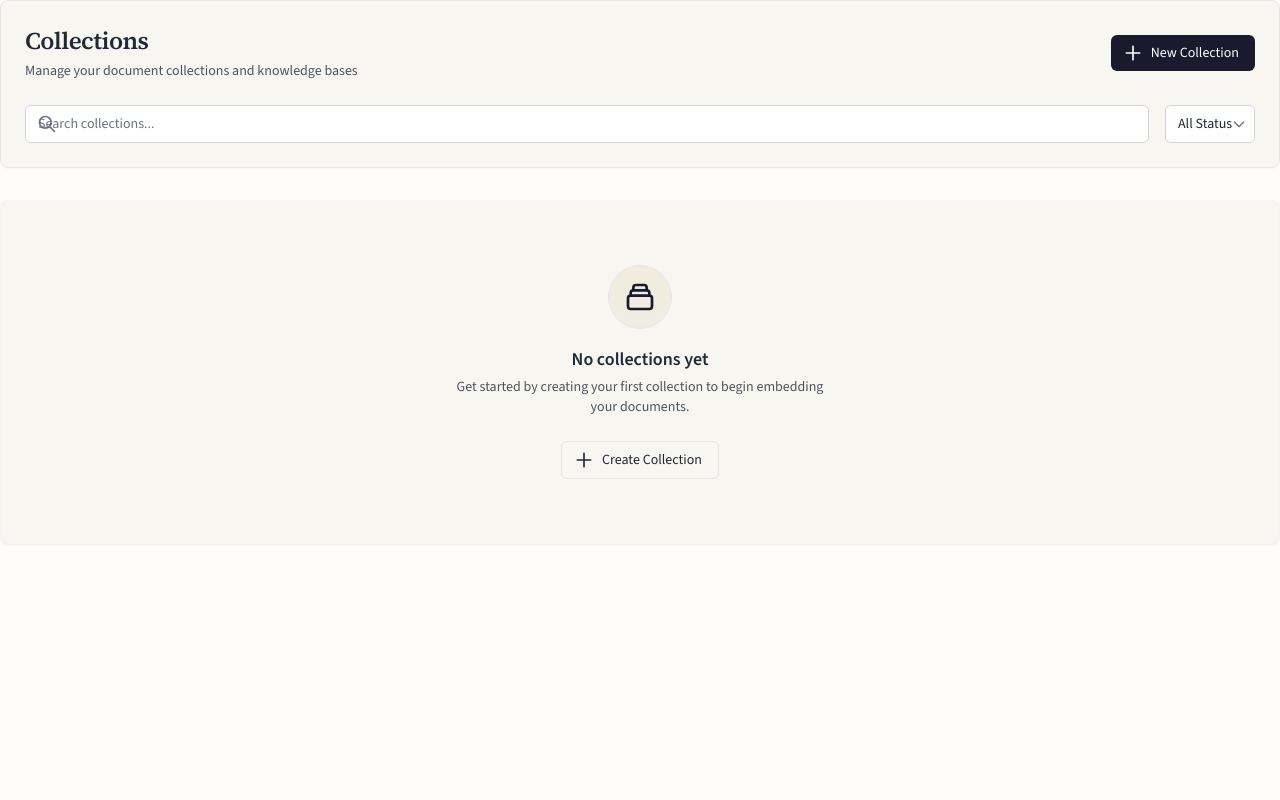
Test: Final Wizard Integration › Wizard Keyboard Navigation › closes wizard with Escape key from dashboard context
The image size is (1280, 800).
Click the button "New Collection" at (1183, 53), box [1111,35,1255,71]
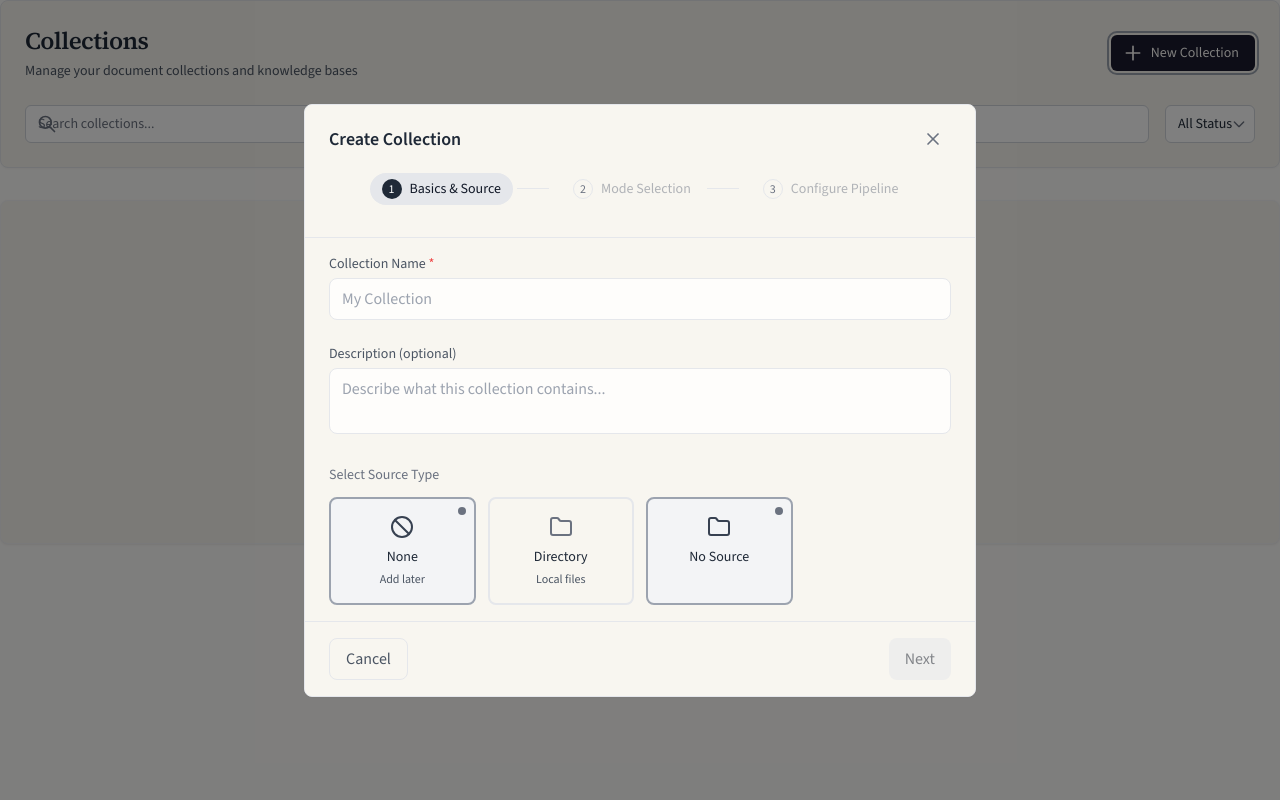
Check: the dialog is shown, box [304,104,976,696]
Note: Press Escape to close
Press Escape
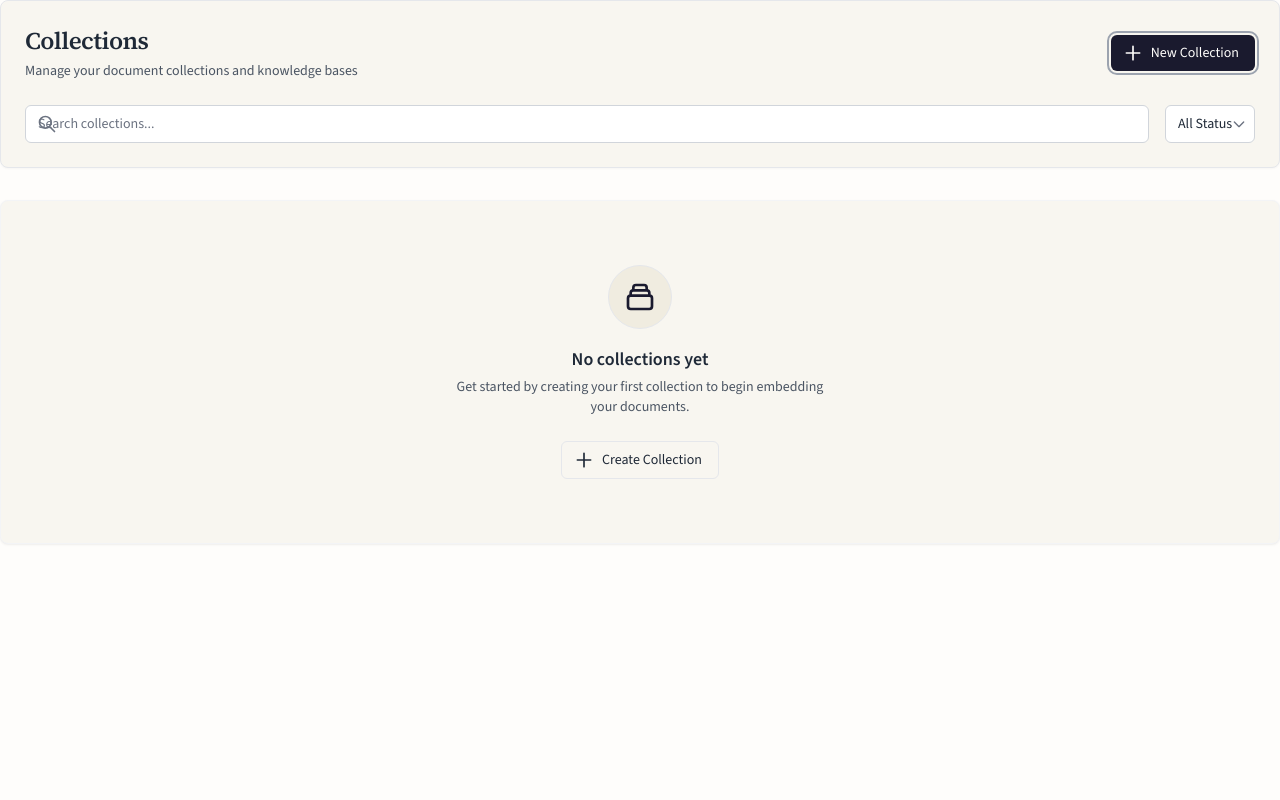
Check: the dialog is gone
